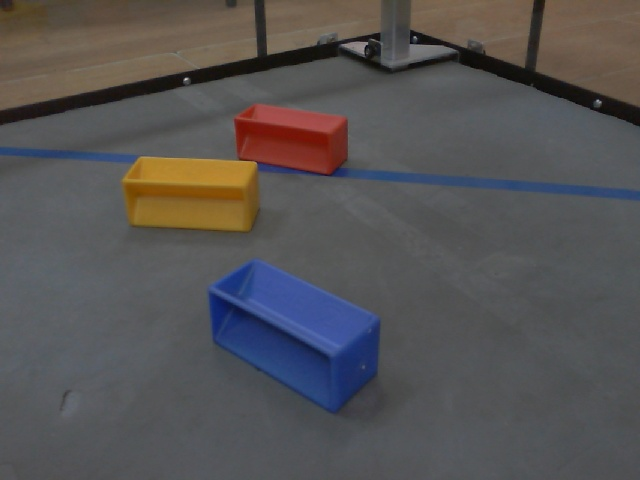BlueSample: (203, 257, 384, 413)
RedSample: (231, 100, 352, 177)
YellowSample: (119, 152, 261, 237)
